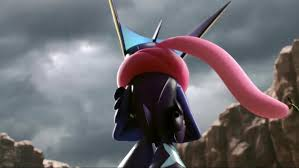greninja: (100, 1, 290, 168)
